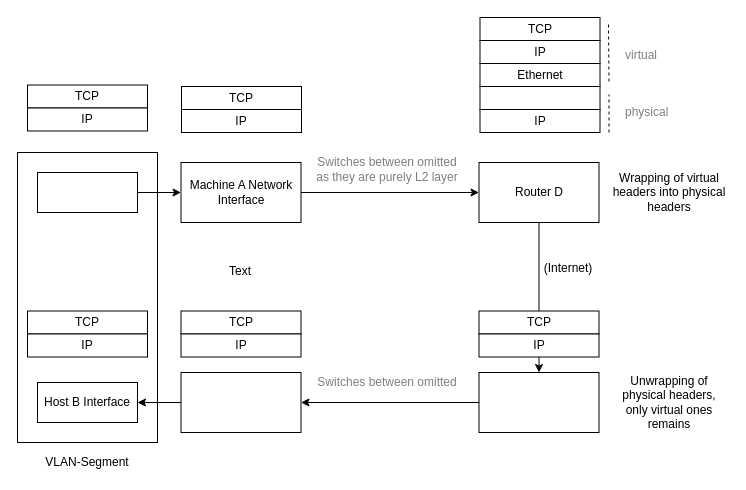
Some shapes in this 746 by 490 pixel diagram are drawn without their labels. Each missing label, with the centre of its shape:
"Generic Routing Enc" belongs at point 539,98.
"Host A Interface" belongs at point 87,192.
"Machine B Network Interface" belongs at point 240,402.
"Router E" belongs at point 538,402.
